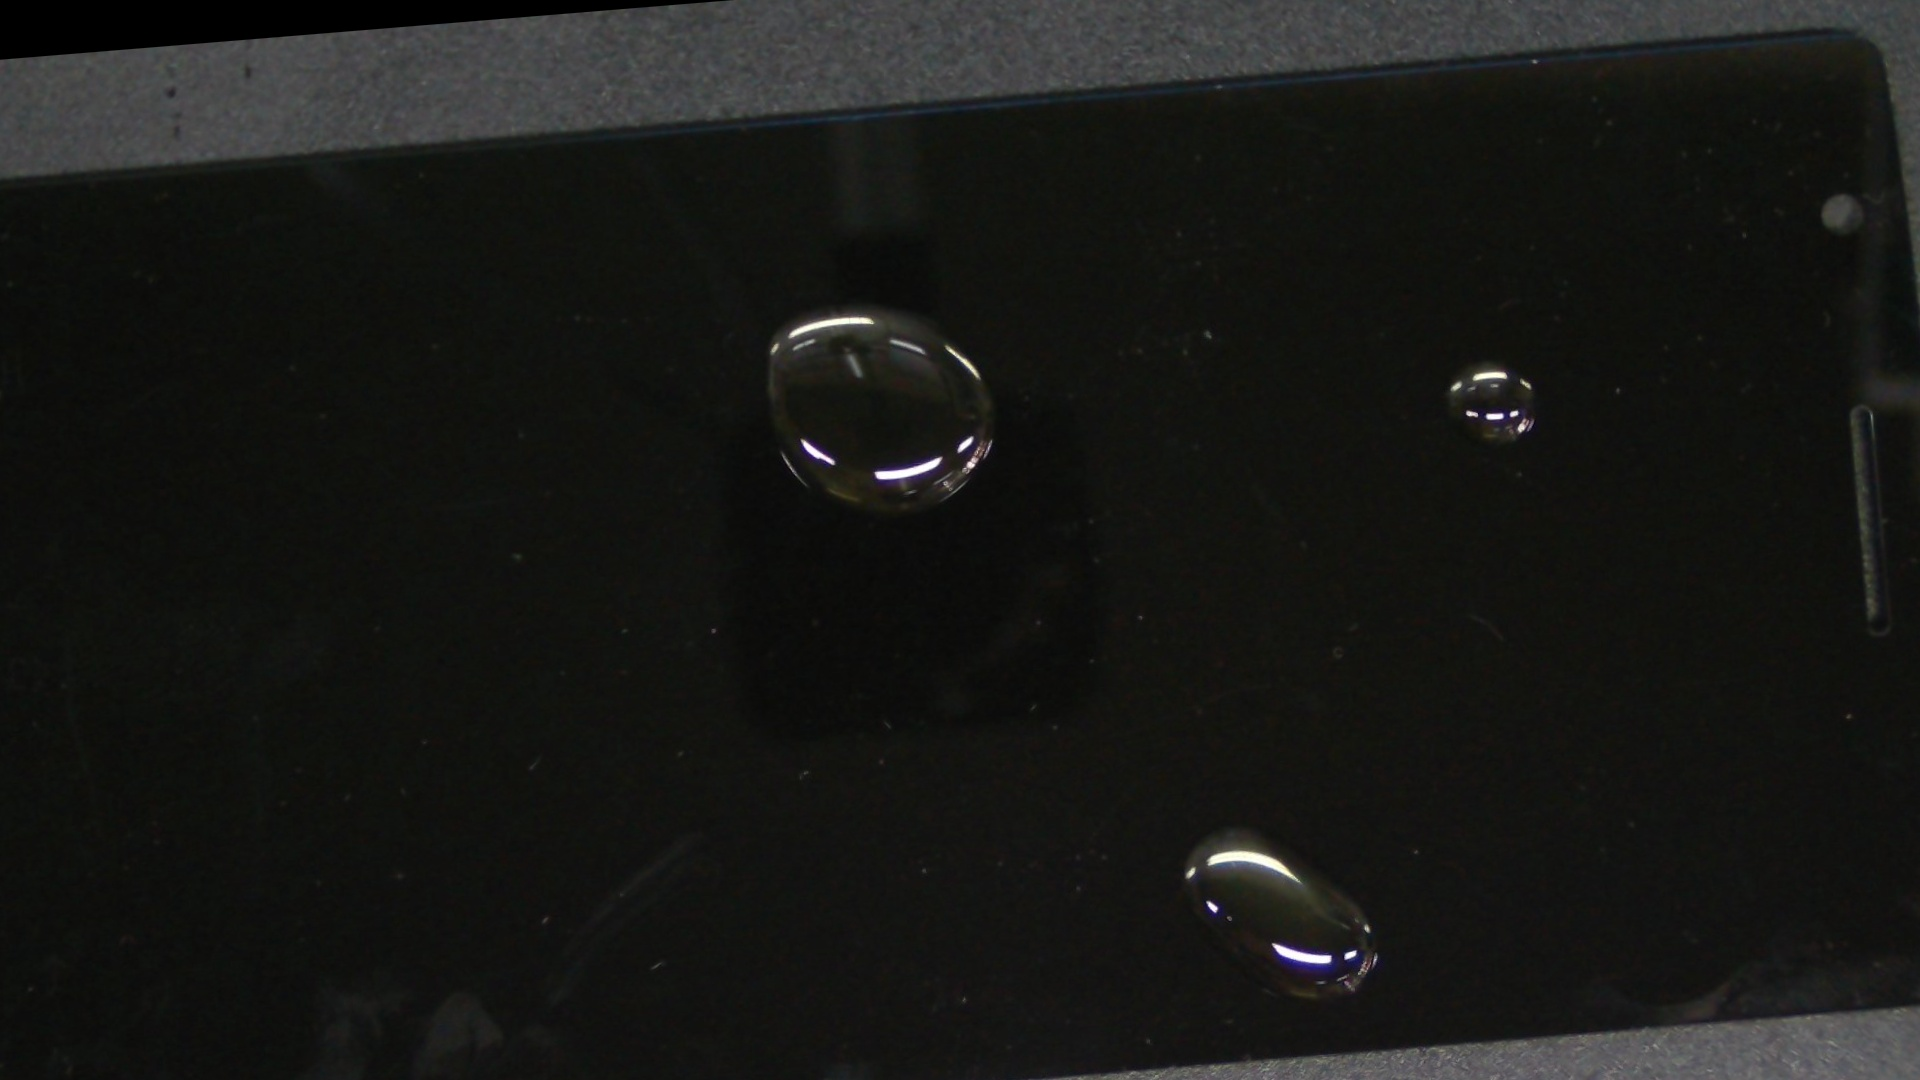oil: (489, 340, 1920, 1080), (618, 111, 1920, 640), (295, 107, 1375, 505)
